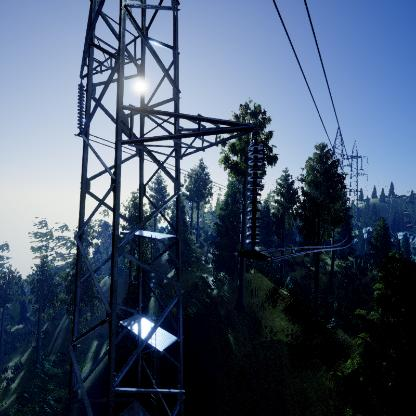insulator: (244, 142, 266, 250), (76, 82, 85, 134)
